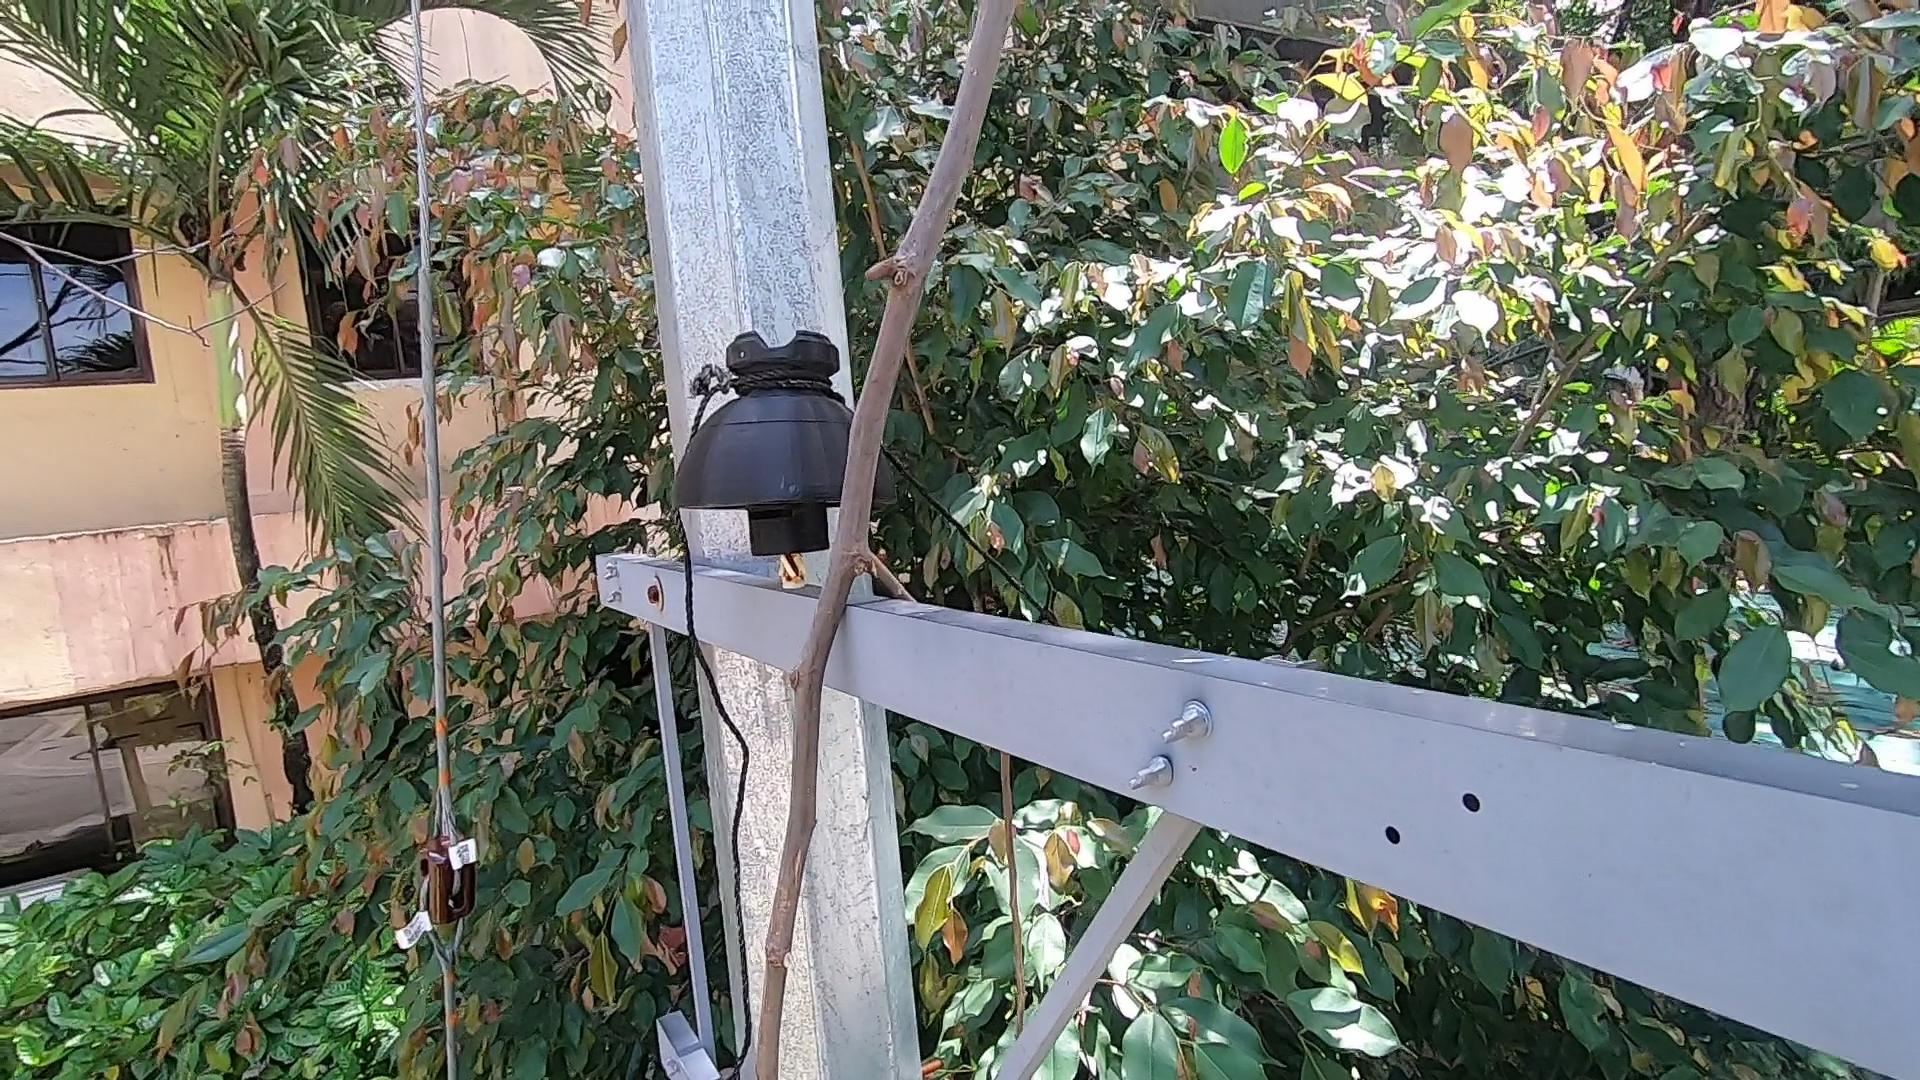tree branch: (709, 3, 1010, 1080)
